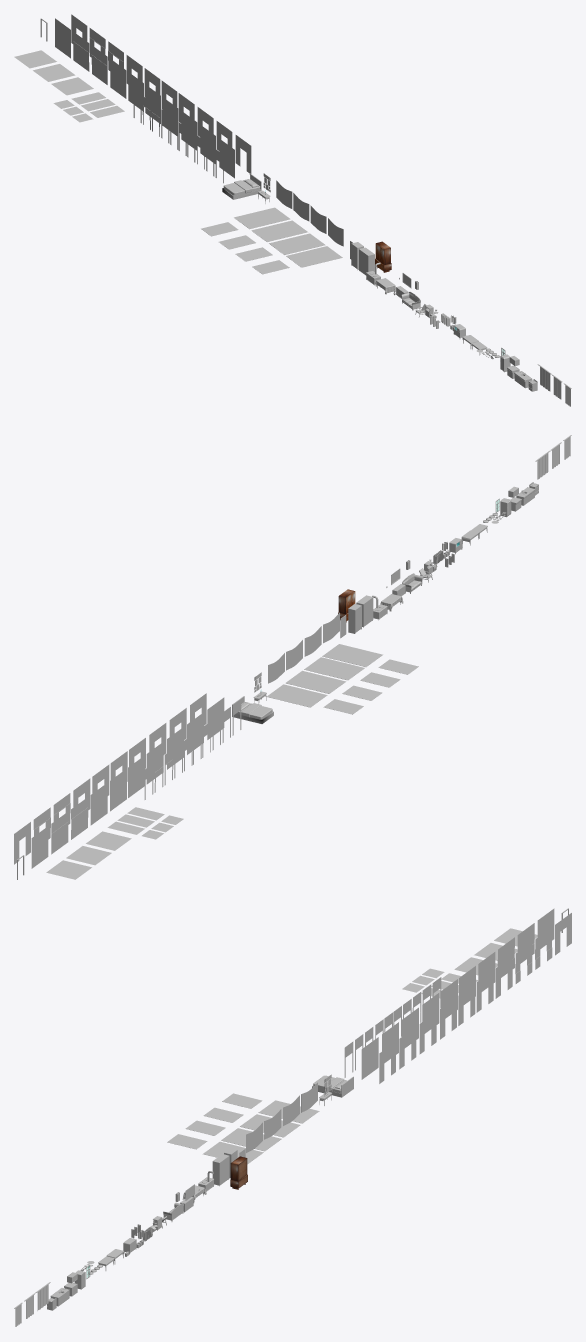
File: Balkan Pack.fbx
3 renders of one model, top to bottom at view 1: azimuth 30°, elevation 25°; view 2: azimuth 150°, elevation 25°; view 3: azimuth 330°, elevation 25°, orthographic. The views are drawn at different scales.
Visible parts, largest first — view 1: Carpet 1 Large, Carpet 4 Large, Carpet 2 Large, Carpet 3 Large, Wall 3; view 2: Carpet 4 Large, Carpet 1 Large, Carpet 2 Large, Carpet 3 Large, Wall 1, Wall 3, Wall 4-2; view 3: Wall 4, Carpet 4 Large.
Part boxes in pixels (box(x1,y1,x2,y2)): Carpet 1 Large: box(234, 207, 290, 229); Carpet 4 Large: box(269, 233, 325, 254); Carpet 2 Large: box(251, 220, 307, 241); Carpet 3 Large: box(286, 246, 342, 267); Wall 3: box(110, 59, 126, 98); Carpet 4 Large: box(304, 657, 364, 680); Carpet 1 Large: box(266, 684, 327, 707); Carpet 2 Large: box(285, 670, 345, 693); Carpet 3 Large: box(322, 644, 382, 666); Wall 1: box(31, 826, 48, 868); Wall 3: box(90, 783, 107, 825); Wall 4-2: box(51, 812, 68, 854); Wall 4: box(361, 1037, 378, 1079); Carpet 4 Large: box(221, 1128, 281, 1151).
Bounding box in the file's own units: 2143 × 639 × 19823.
